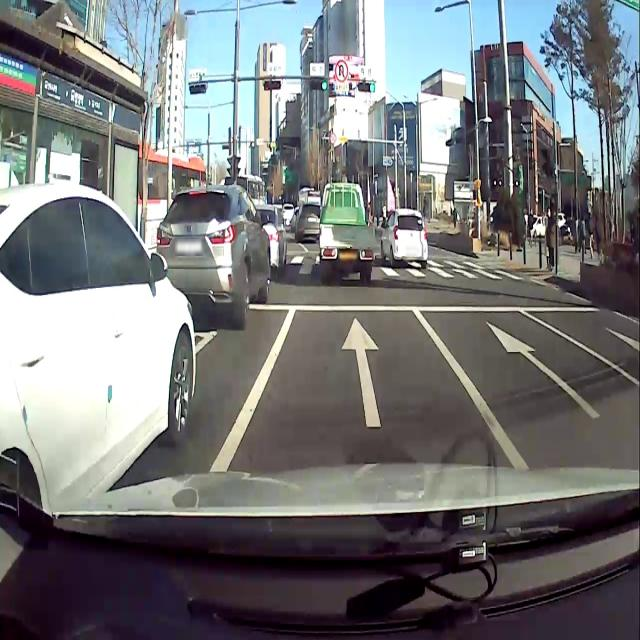Green Light: (368, 83, 376, 94), (322, 79, 327, 92)
